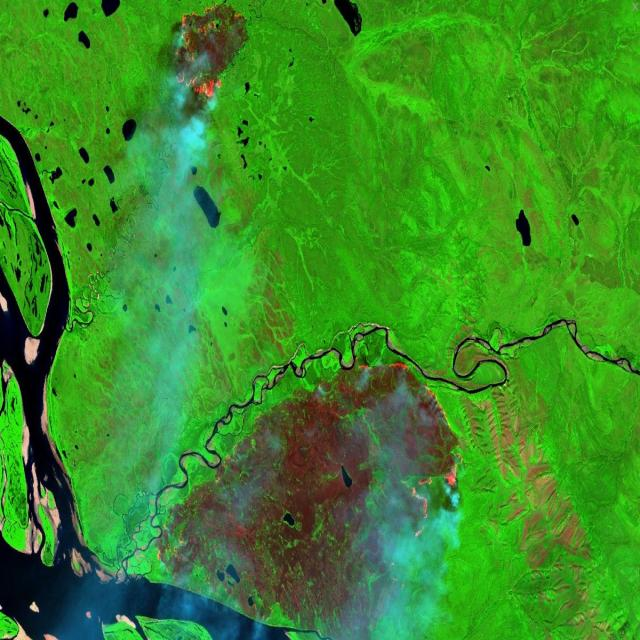fire: (354, 353, 461, 543), (170, 0, 231, 101)
